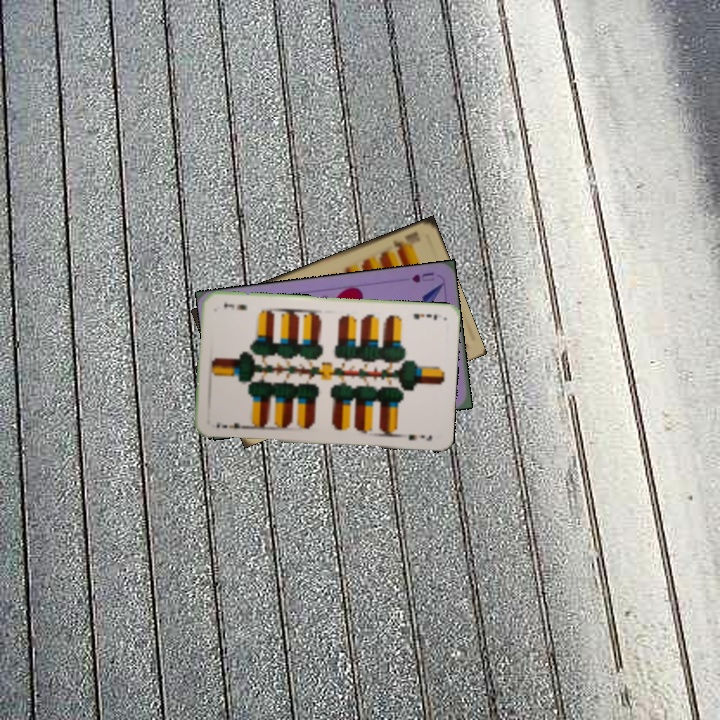E10: (389, 228, 421, 254)
E7: (213, 418, 249, 432), (410, 309, 440, 323)
HU: (407, 268, 437, 285)
